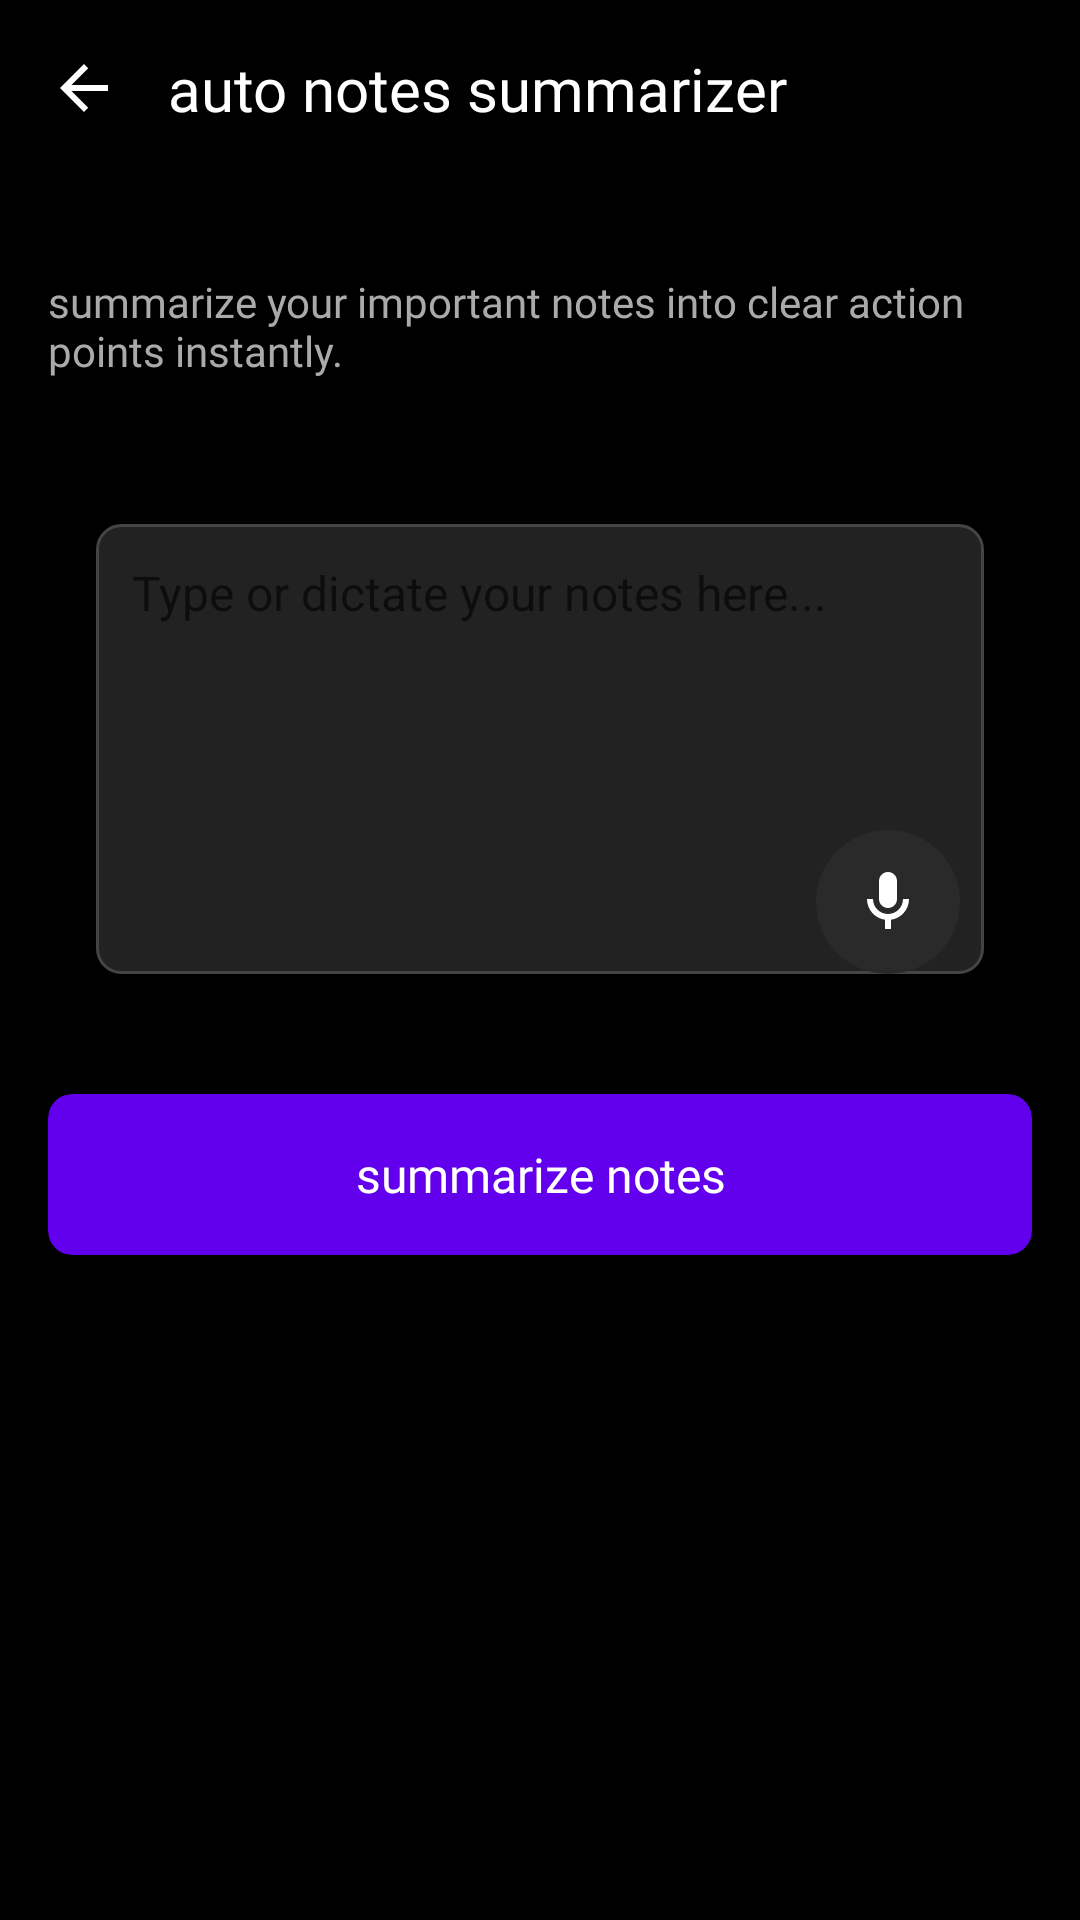

Point at icon controls on the screen. Image size 1080×1920, points as [x,y].
Back: [84,88]
Voice input: [888,900]
